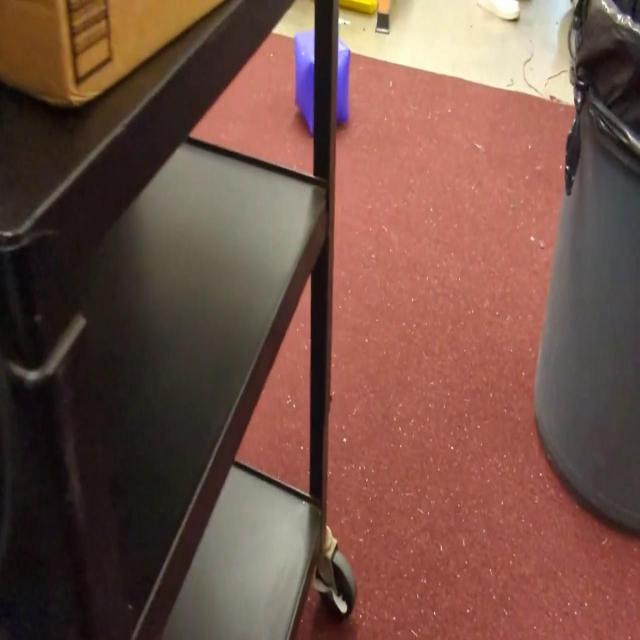frc_cube: (293, 28, 351, 130)
